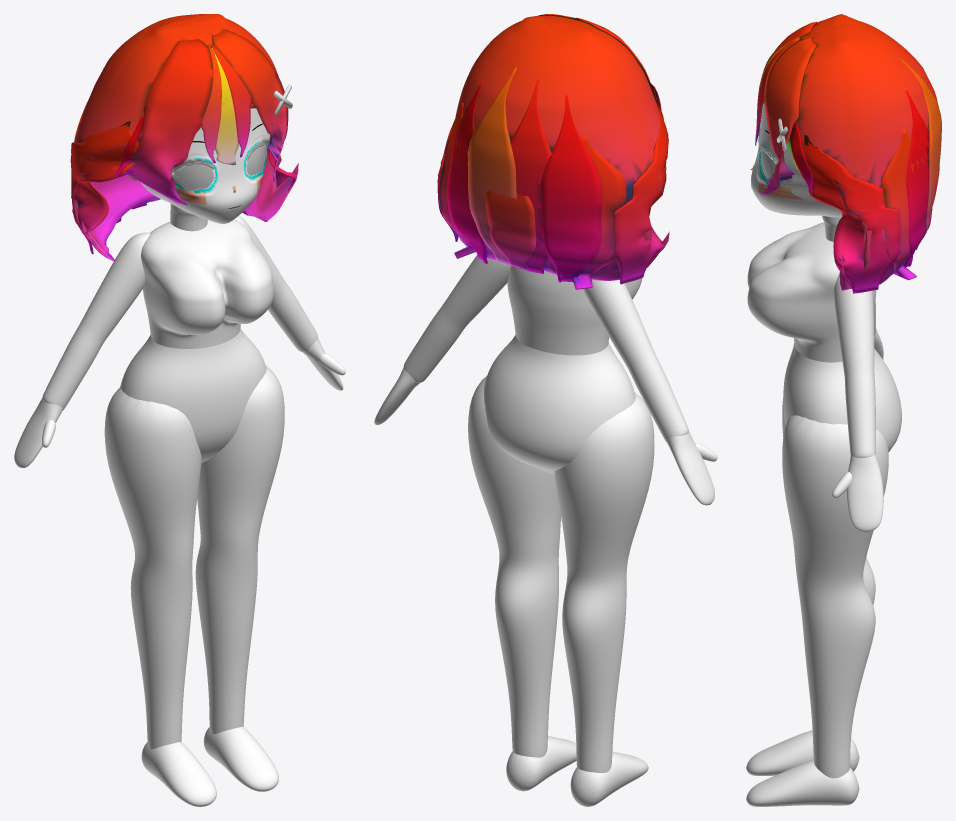
The model's file is MG_ToonTest_01_v6e_C_eye.fbx.
The picture shows the model from 3 angles, left to right: view 1: azimuth 30°, elevation 25°; view 2: azimuth 150°, elevation 25°; view 3: azimuth 270°, elevation 25°; orthographic projection. The views are drawn at different scales.
Visible parts, largest first — view 1: Blockout_Leg.R, Blockout_Leg.L, hair_bob_01__Bangs, Blockout_Torso, hair_bob_01__Volume, Blockout_Pelvis, Blockout_Arm.R, Blockout_Head, hair_bob_01__Side_R, Blockout_Foot.R, Blockout_Foot.L, Blockout_Arm.L (+4 smaller); view 2: Blockout_Leg.R, hair_bob_01__Back, hair_bob_01__Volume, Blockout_Leg.L, Blockout_Pelvis, hair_bob_01__Side_R, Blockout_Torso, Blockout_Arm.R, Blockout_Arm.L, Blockout_Foot.R, Blockout_Foot.L, Blockout_Hand.R (+2 smaller); view 3: Blockout_Leg.L, hair_bob_01__Volume, hair_bob_01__Side_L, Blockout_Torso, Blockout_Pelvis, Blockout_Arm.L, hair_bob_01__Bangs, hair_bob_01__Back, Blockout_Foot.L, Blockout_Head, Blockout_Hand.L, Blockout_Foot.R (+3 smaller).
Boxes of the visible parts, <box> form: Blockout_Leg.R: <box>104,388,201,749</box>; Blockout_Leg.L: <box>195,365,284,734</box>; hair_bob_01__Bangs: <box>125,29,288,205</box>; Blockout_Torso: <box>141,219,273,348</box>; hair_bob_01__Volume: <box>72,14,298,261</box>; Blockout_Pelvis: <box>120,328,266,462</box>; Blockout_Arm.R: <box>42,232,150,409</box>; Blockout_Head: <box>141,108,270,223</box>; hair_bob_01__Side_R: <box>70,81,139,254</box>; Blockout_Foot.R: <box>141,742,216,806</box>; Blockout_Foot.L: <box>203,726,278,791</box>; Blockout_Arm.L: <box>235,216,317,352</box>; Blockout_Leg.R: <box>554,392,654,772</box>; hair_bob_01__Back: <box>447,67,602,282</box>; hair_bob_01__Volume: <box>437,15,669,280</box>; Blockout_Leg.L: <box>468,376,560,757</box>; Blockout_Pelvis: <box>484,334,635,474</box>; hair_bob_01__Side_R: <box>571,102,668,289</box>; Blockout_Torso: <box>507,265,642,355</box>; Blockout_Arm.R: <box>582,279,688,442</box>; Blockout_Arm.L: <box>403,255,510,382</box>; Blockout_Foot.R: <box>570,751,648,806</box>; Blockout_Foot.L: <box>506,736,576,791</box>; Blockout_Hand.R: <box>667,431,717,505</box>; Blockout_Leg.L: <box>782,415,888,778</box>; hair_bob_01__Volume: <box>763,14,935,290</box>; hair_bob_01__Side_L: <box>792,128,928,293</box>; Blockout_Torso: <box>747,222,876,362</box>; Blockout_Pelvis: <box>783,343,901,452</box>; Blockout_Arm.L: <box>833,272,875,457</box>; hair_bob_01__Bangs: <box>755,21,817,195</box>; hair_bob_01__Back: <box>900,51,941,267</box>; Blockout_Foot.L: <box>746,760,859,806</box>; Blockout_Head: <box>751,103,842,217</box>; Blockout_Hand.L: <box>832,454,883,532</box>; Blockout_Foot.R: <box>746,730,859,775</box>.
Bounding box in the file's own units: 74.75 × 165 × 38.63.
